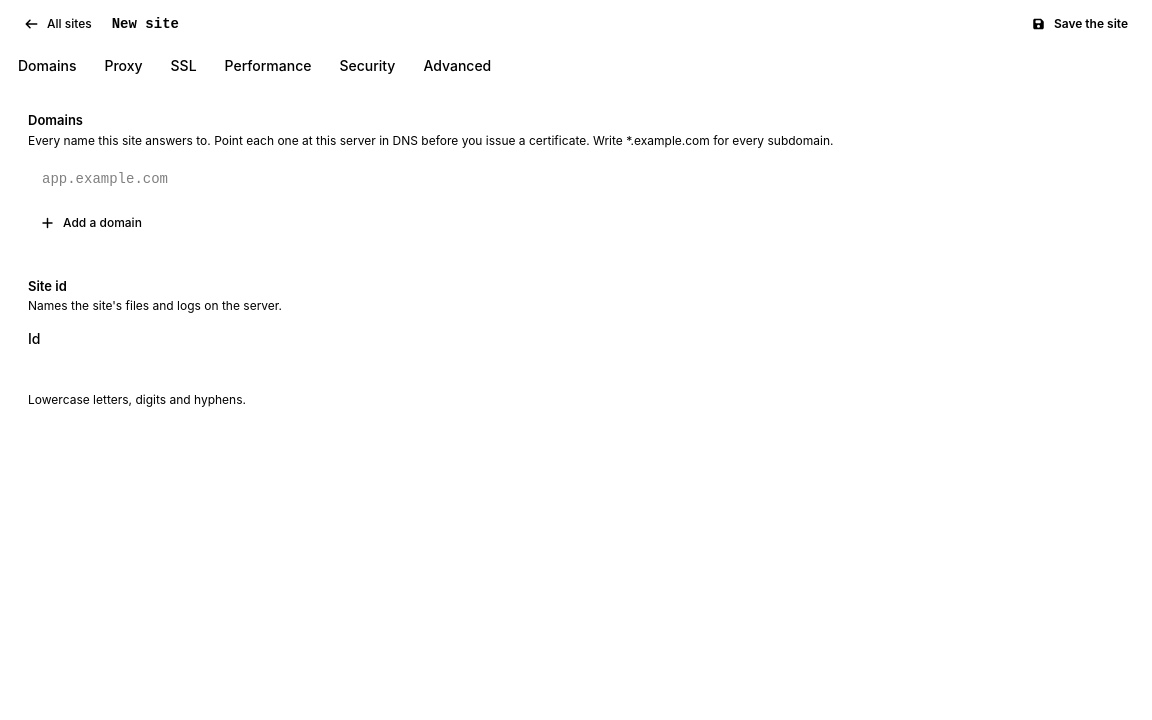
Test: SiteEditor domains and proxy › shows the core’s problems next to their field and on their tab
This screenshot has width=1152, height=720.
Type "shop.example.com" into the field named "Domain 1" at (576, 178), box [28,160,1124,196]
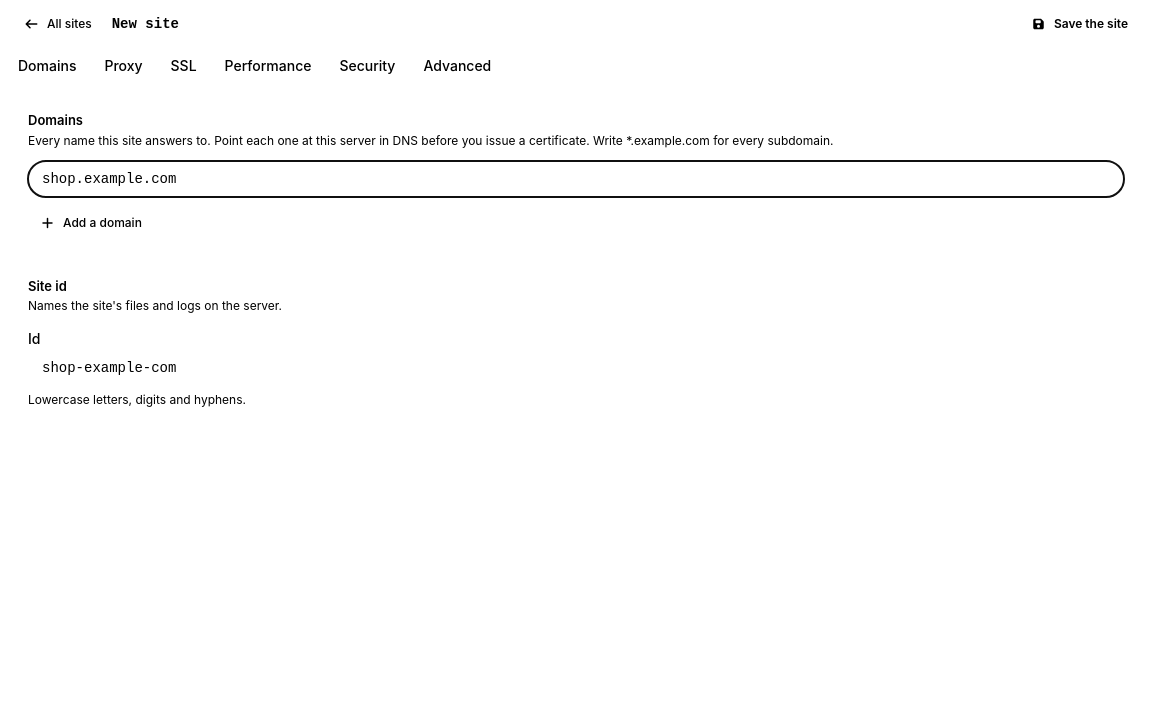
Click the tab "Proxy" at (123, 66), box [92,48,154,84]
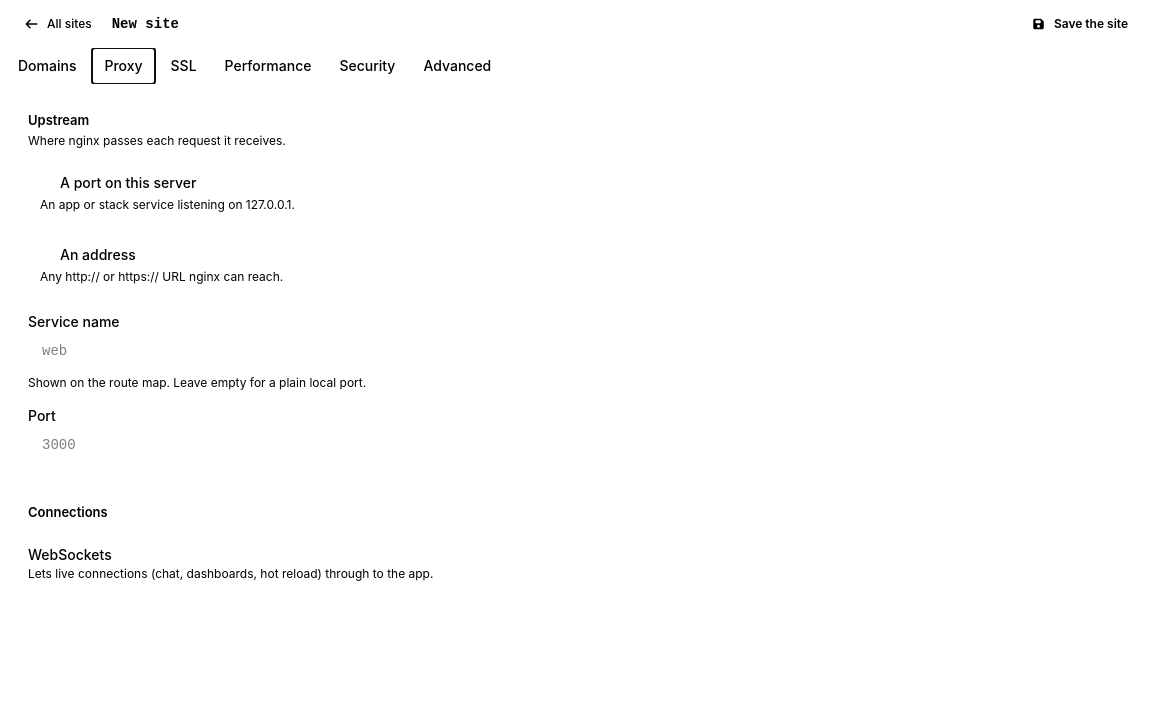
Type "5000" into the field labelled "Port" at (576, 444), box [28,426,1124,462]
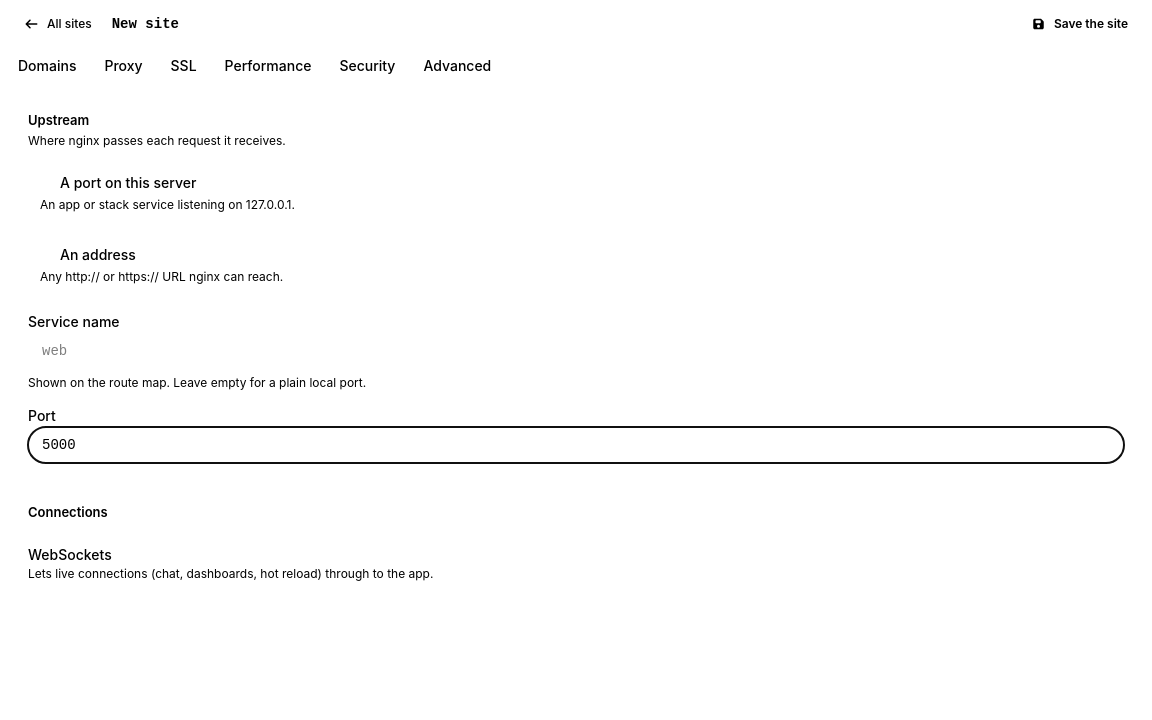
Click the button "Save the site" at (1079, 24), box [1019,10,1140,38]
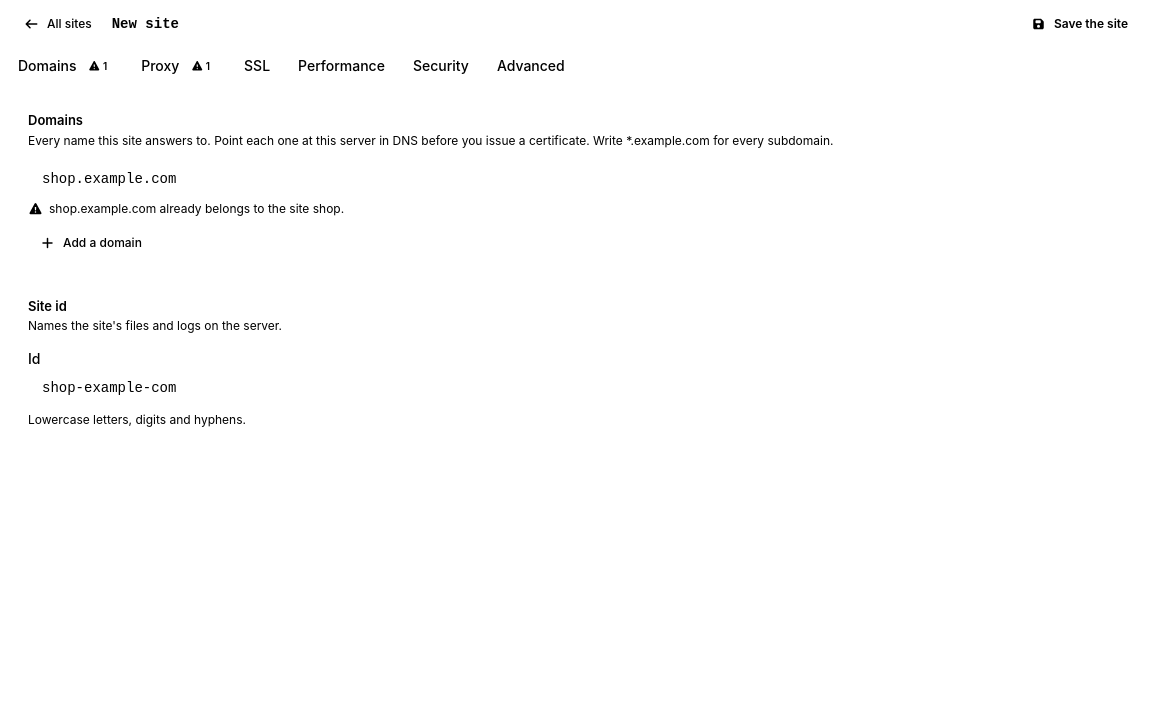
Expected: the text "shop.example.com already belongs to the site shop." is shown, [49,200,344,216]
Click the tab "Proxy 1" at (179, 66), box [129,48,228,84]
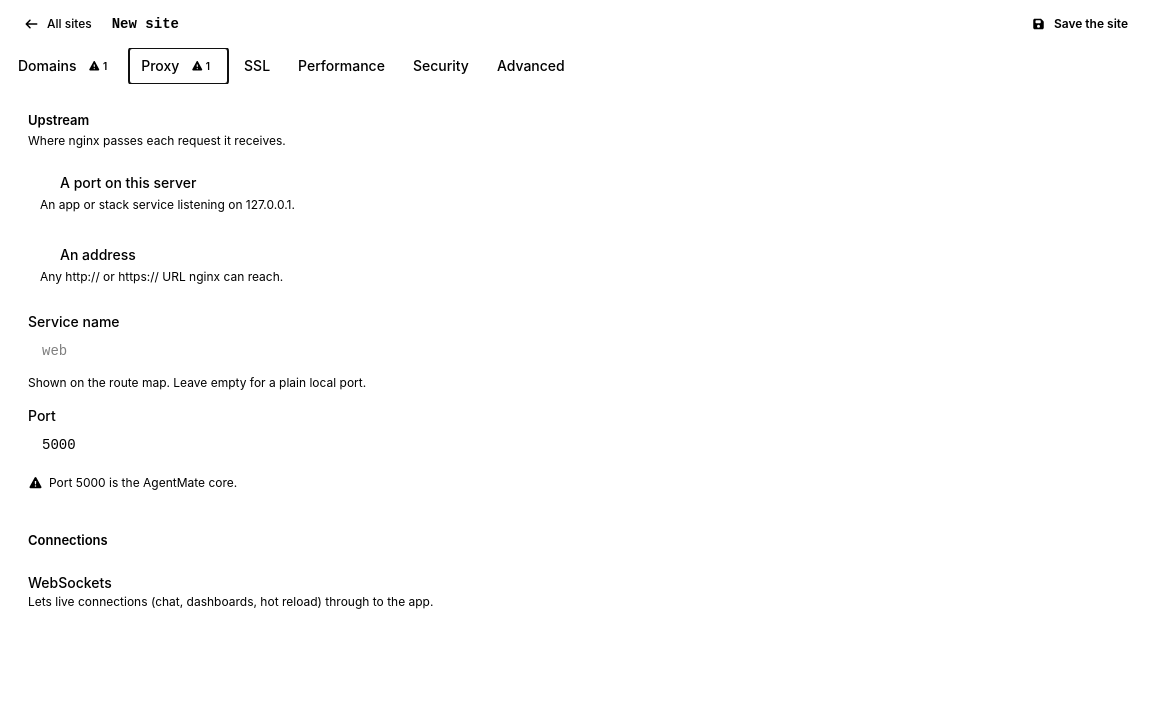
Expected: the text "Port 5000 is the AgentMate core." is shown, [49,474,237,490]
